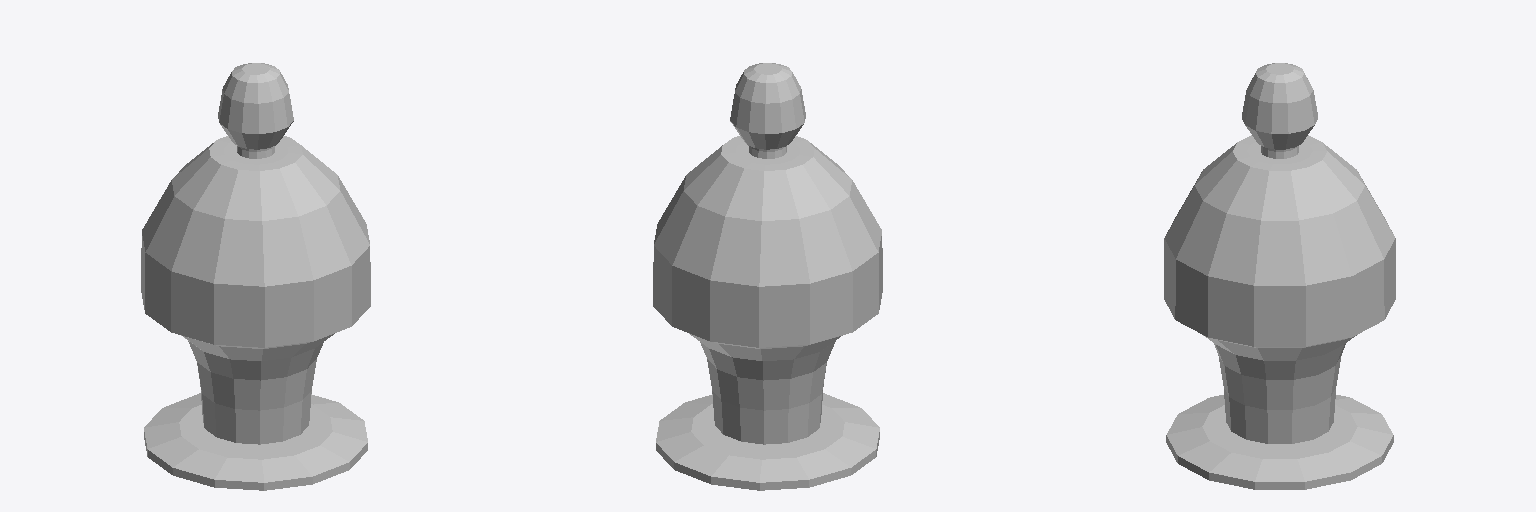
The model's file is human-short_006.obj.
3 renders of one model, left to right at view 1: azimuth 30°, elevation 25°; view 2: azimuth 150°, elevation 25°; view 3: azimuth 270°, elevation 25°, orthographic.
Visible parts, largest first — view 1: human-short.006; view 2: human-short.006; view 3: human-short.006.
Part boxes in pixels (bbox=[...]): human-short.006: bbox=[141, 63, 370, 490]; human-short.006: bbox=[653, 63, 882, 490]; human-short.006: bbox=[1164, 63, 1395, 489].
Size of the model in its own units: 0.8691 by 1.58 by 0.8915.